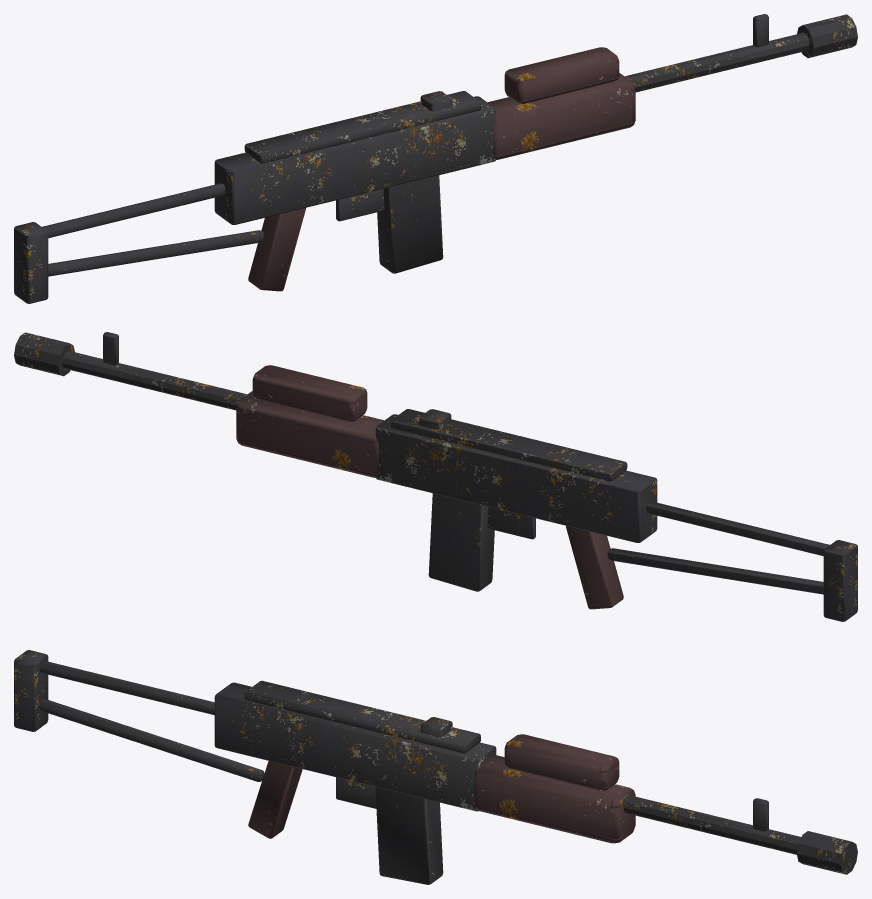
File: held_weapon_saiga12.glb
The picture shows the model from 3 angles, top to bottom: view 1: azimuth 30°, elevation 25°; view 2: azimuth 150°, elevation 25°; view 3: azimuth 330°, elevation 25°; orthographic projection.
Visible parts, largest first — view 1: box, box.002, box.007, box.001, box.003, cyl, box.006, box.010, box.011, box.009, cyl.001, box.008; view 2: box, box.002, box.007, box.001, box.003, cyl, box.006, box.010, box.011, box.009, cyl.001, box.008; view 3: box, box.002, box.007, box.001, box.003, cyl, box.010, box.006, box.011, box.009, cyl.001, box.008 (+2 smaller).
Part boxes in pixels (x1,y1,x2,y2): box: (214, 96, 496, 224); box.002: (487, 73, 635, 159); box.007: (377, 175, 443, 273); box.001: (244, 91, 480, 163); box.003: (504, 47, 619, 103); cyl: (624, 32, 809, 92); box.006: (248, 208, 305, 291); box.010: (48, 230, 264, 276); box.011: (14, 222, 48, 303); box.009: (19, 183, 225, 241); cyl.001: (797, 14, 857, 58); box.008: (336, 189, 384, 221); box: (375, 414, 657, 542); box.002: (236, 391, 384, 477); box.007: (428, 493, 494, 591); box.001: (391, 409, 627, 481); box.003: (252, 365, 367, 421); cyl: (62, 350, 247, 410); box.006: (566, 526, 623, 609); box.010: (607, 548, 823, 594); box.011: (823, 540, 857, 621); box.009: (646, 501, 852, 559); cyl.001: (14, 332, 74, 376); box.008: (487, 507, 535, 539); box: (214, 682, 496, 811); box.002: (474, 755, 635, 843); box.007: (375, 787, 443, 884); box.001: (244, 680, 480, 753); box.003: (504, 734, 619, 790); cyl: (623, 794, 853, 866); box.010: (39, 698, 264, 781); box.006: (248, 761, 302, 838); box.011: (14, 650, 48, 731); box.009: (39, 660, 214, 715); cyl.001: (796, 831, 857, 874); box.008: (336, 777, 376, 808).
Size of the model in its own units: 1.13 by 0.2139 by 0.05.
2 materials, 2 textured.
